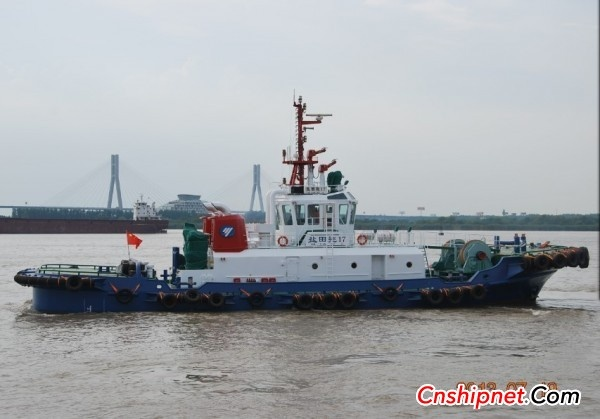otherboat: (8, 88, 594, 321)
